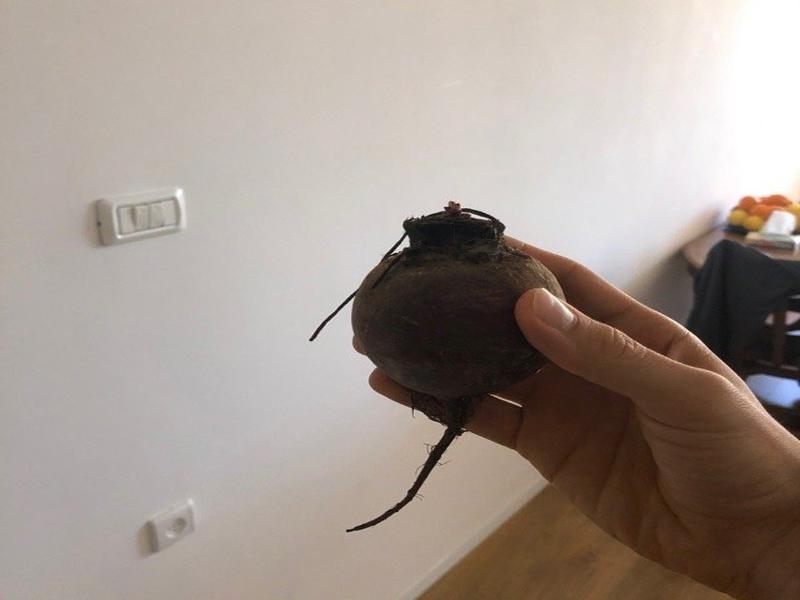Beet: (306, 202, 566, 532)
